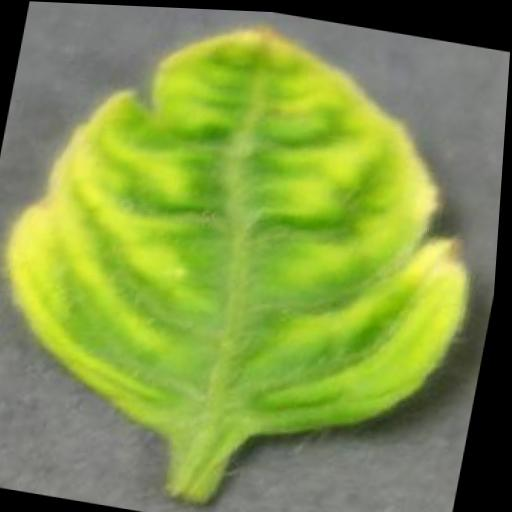Yellow Leaf Curl Virus: (0, 0, 512, 464)
